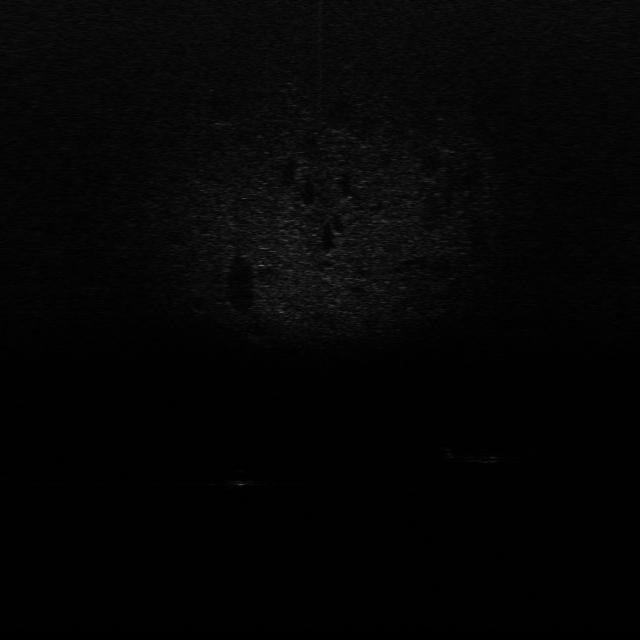ball: (224, 467, 258, 488)
human body: (446, 444, 530, 466)
